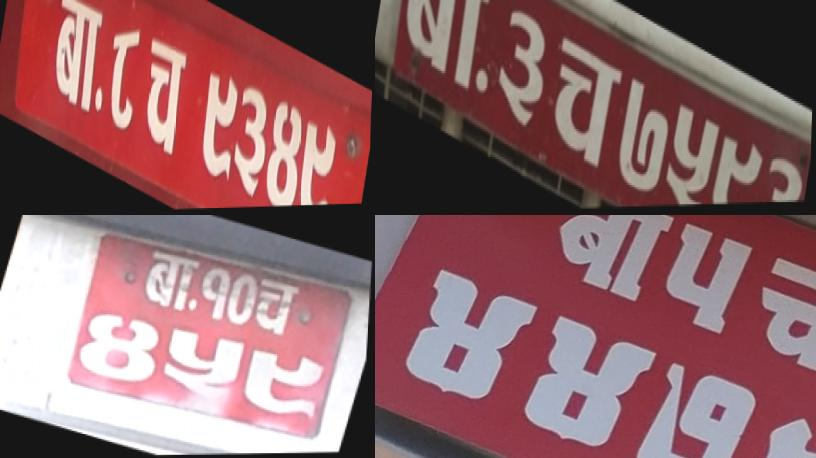0: (221, 267, 267, 332)
1: (192, 262, 239, 327)
3: (489, 0, 559, 137), (228, 73, 278, 209), (753, 142, 811, 206)
4: (390, 251, 555, 420), (506, 297, 678, 458), (72, 300, 174, 394), (258, 86, 311, 208)
5: (644, 215, 769, 350), (154, 320, 254, 413), (660, 88, 724, 208)
7: (626, 347, 775, 458), (613, 61, 678, 209)
8: (98, 12, 150, 149)
9: (233, 336, 335, 432), (193, 56, 247, 195), (708, 114, 770, 206), (293, 106, 348, 208)
ba: (531, 215, 687, 312), (393, 0, 498, 107), (41, 0, 107, 127), (135, 244, 208, 322)
cha: (544, 20, 629, 184), (733, 241, 816, 389), (132, 27, 195, 186), (247, 272, 306, 344)
